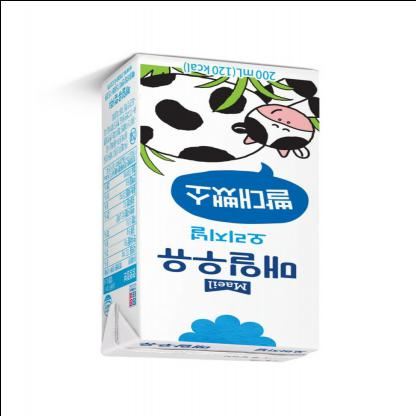tetra: (82, 48, 332, 378)
